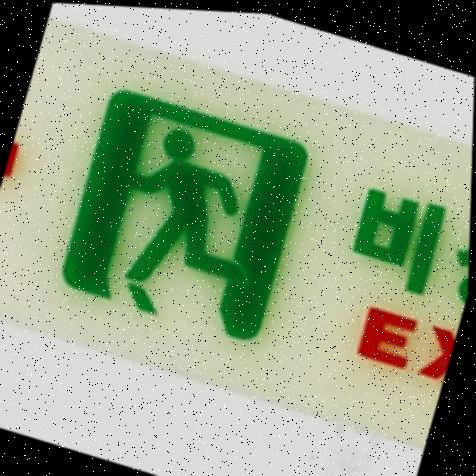emergency_exit: (1, 3, 474, 475), (60, 87, 310, 342)
